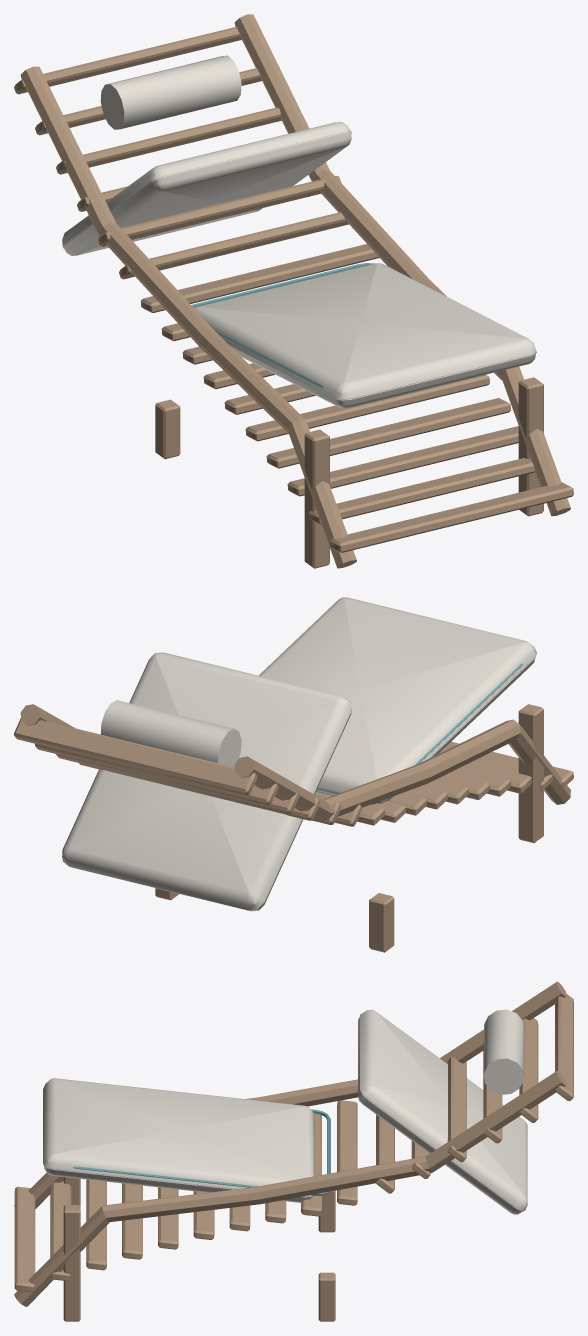
The model's file is hotel-and-resort-operations-relaxation-lounger-d840797b__25940.glb.
3 renders of one model, top to bottom at view 1: azimuth 30°, elevation 25°; view 2: azimuth 150°, elevation 25°; view 3: azimuth 270°, elevation 25°, orthographic. The views are drawn at different scales.
Visible parts, largest first — view 1: relaxation-lounger; view 2: relaxation-lounger; view 3: relaxation-lounger.
Boxes of the visible parts, x1=… form: relaxation-lounger: x1=14, y1=14, x2=573, y2=568; relaxation-lounger: x1=14, y1=597, x2=573, y2=952; relaxation-lounger: x1=14, y1=981, x2=573, y2=1321.
Size of the model in its own units: 0.6799 by 0.8027 by 1.65.
